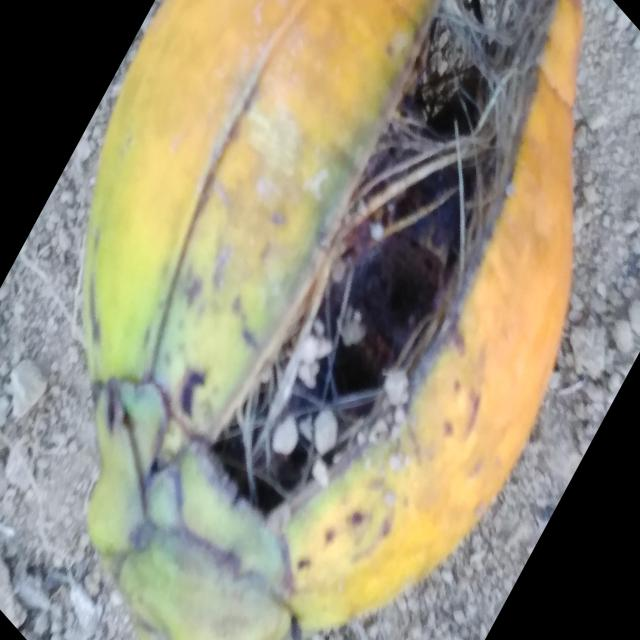damaged: (83, 0, 582, 640)
